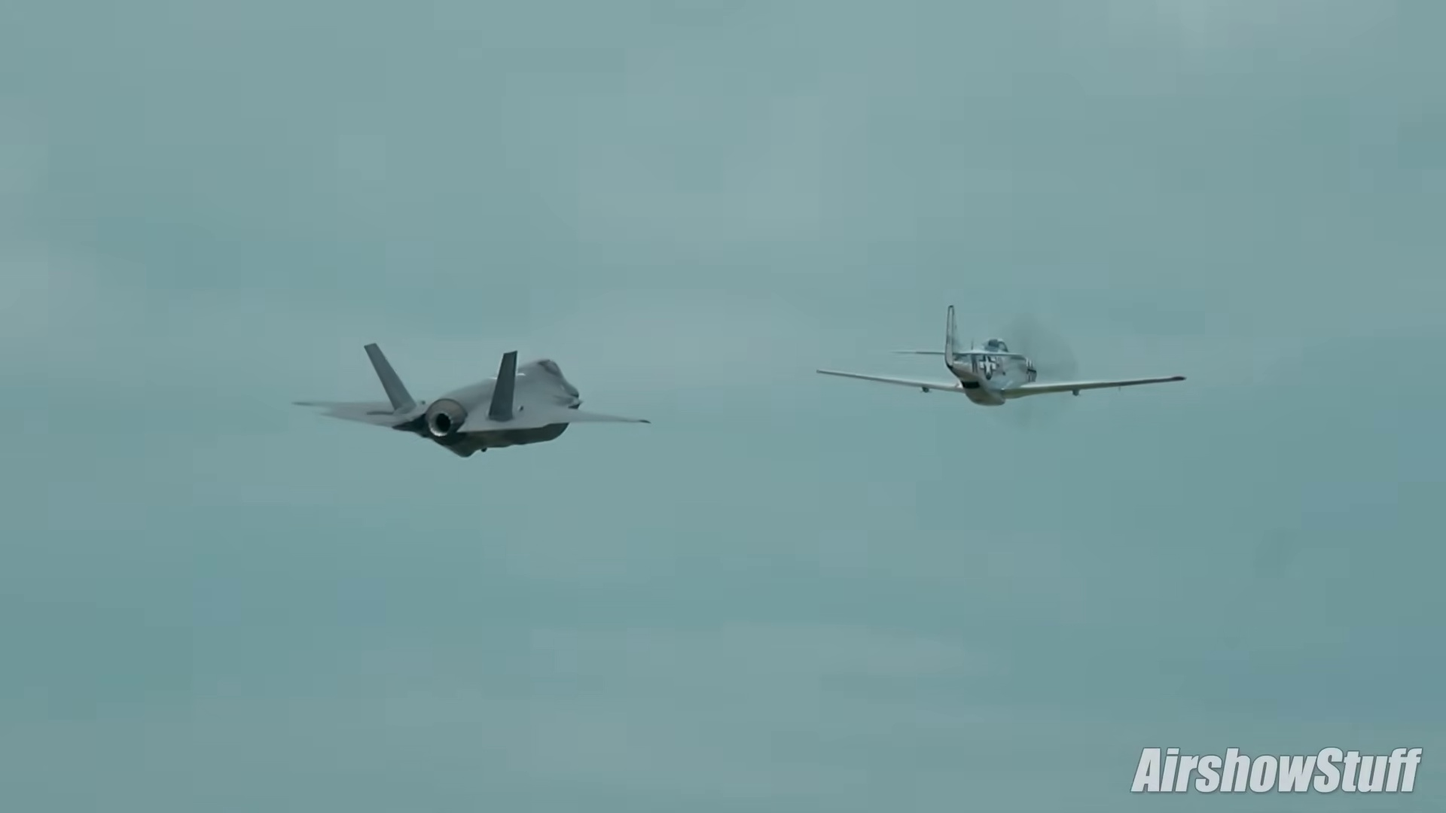F35: (282, 326, 658, 469)
